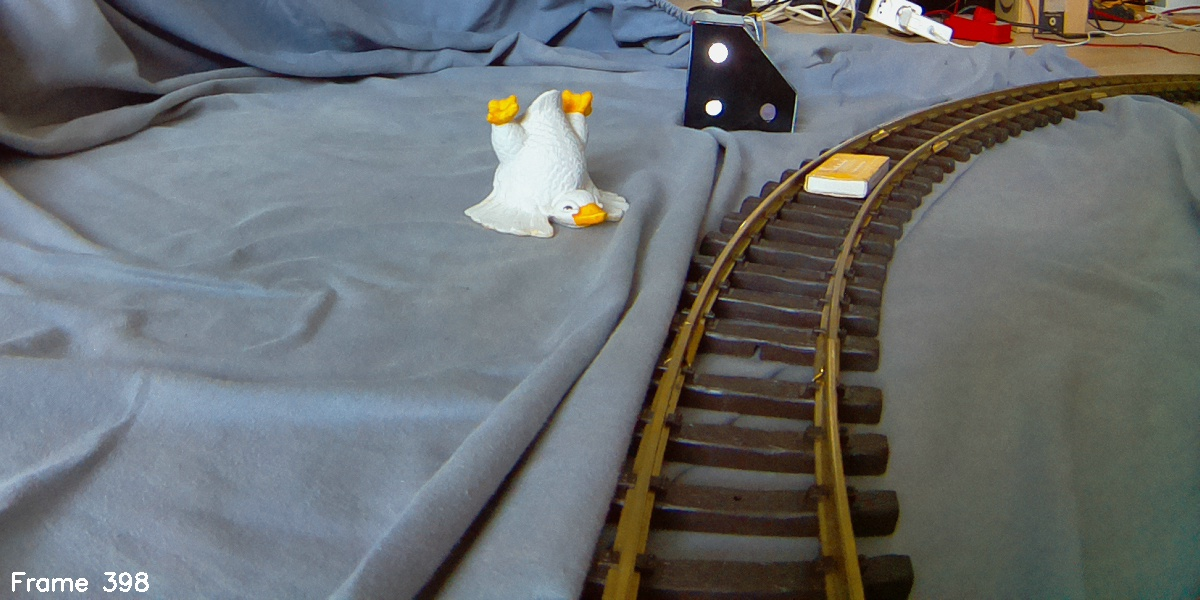Ente: (466, 87, 633, 242)
Fahrt: (680, 10, 798, 136)
